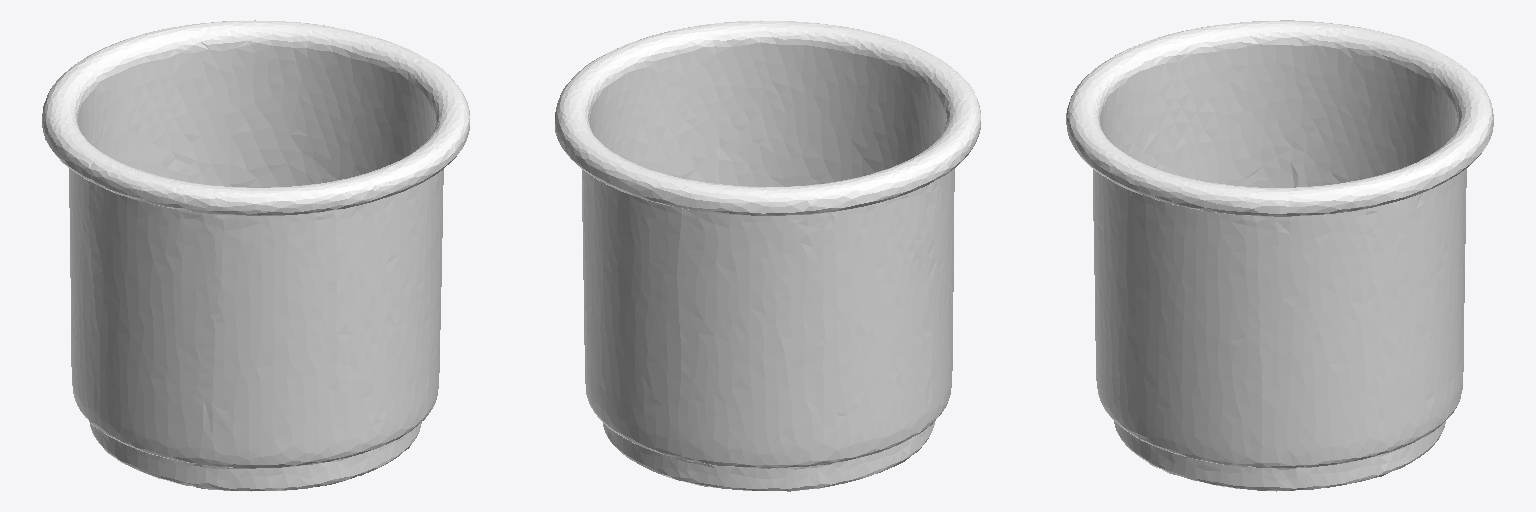
robot.urdf — 011_banana:
<robot name="011_banana">
	<link name="_name">
		<visual>
			<origin xyz="0.09936102440002159 -0.04072679186328214 -0.1712688923116843" rpy="0 0 0" />
			<geometry>
				<mesh filename="011_banana/google_16k/textured.obj" scale="10 10 10" />
			</geometry>
			<material name="texture">
				<color rgba="1.0 1.0 1.0 1.0" />
			</material>
		</visual>
		<collision>
			<geometry>
				<mesh filename="011_banana/google_16k/textured_vhacd.obj" scale="10 10 10" />
			</geometry>
		<origin xyz="0.09936102440002159 -0.04072679186328214 -0.1712688923116843" rpy="0 0 0" /></collision>
		<inertial>
			<mass value="1.0" />
			<inertia ixx="1.0" ixy="0.0" ixz="0.0" iyy="1.0" iyz="0.0" izz="1.0" />
		</inertial>
	</link>
</robot>

--- Facts derived from the render (not from the file) ---
Views: 3 orthographic renders of the robot side by side, from view 1: azimuth 30°, elevation 25°; view 2: azimuth 150°, elevation 25°; view 3: azimuth 270°, elevation 25°.
Robot: 011_banana — 1 links, 0 joints (none); root link _name; default pose: all joints at 0.
Visible links, largest first — view 1: _name; view 2: _name; view 3: _name.
Link boxes in pixels (x1=…): _name: x1=42, y1=20, x2=469, y2=491; _name: x1=555, y1=20, x2=980, y2=491; _name: x1=1066, y1=20, x2=1493, y2=491.
Bounding box of the posed robot: 0.915 × 0.9162 × 0.7506 m (x, y, z).
Meshes: 1 distinct files referenced, 1 mesh visuals loaded (1 OBJ).